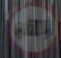Heavy Vehicles: (5, 3, 52, 51)
